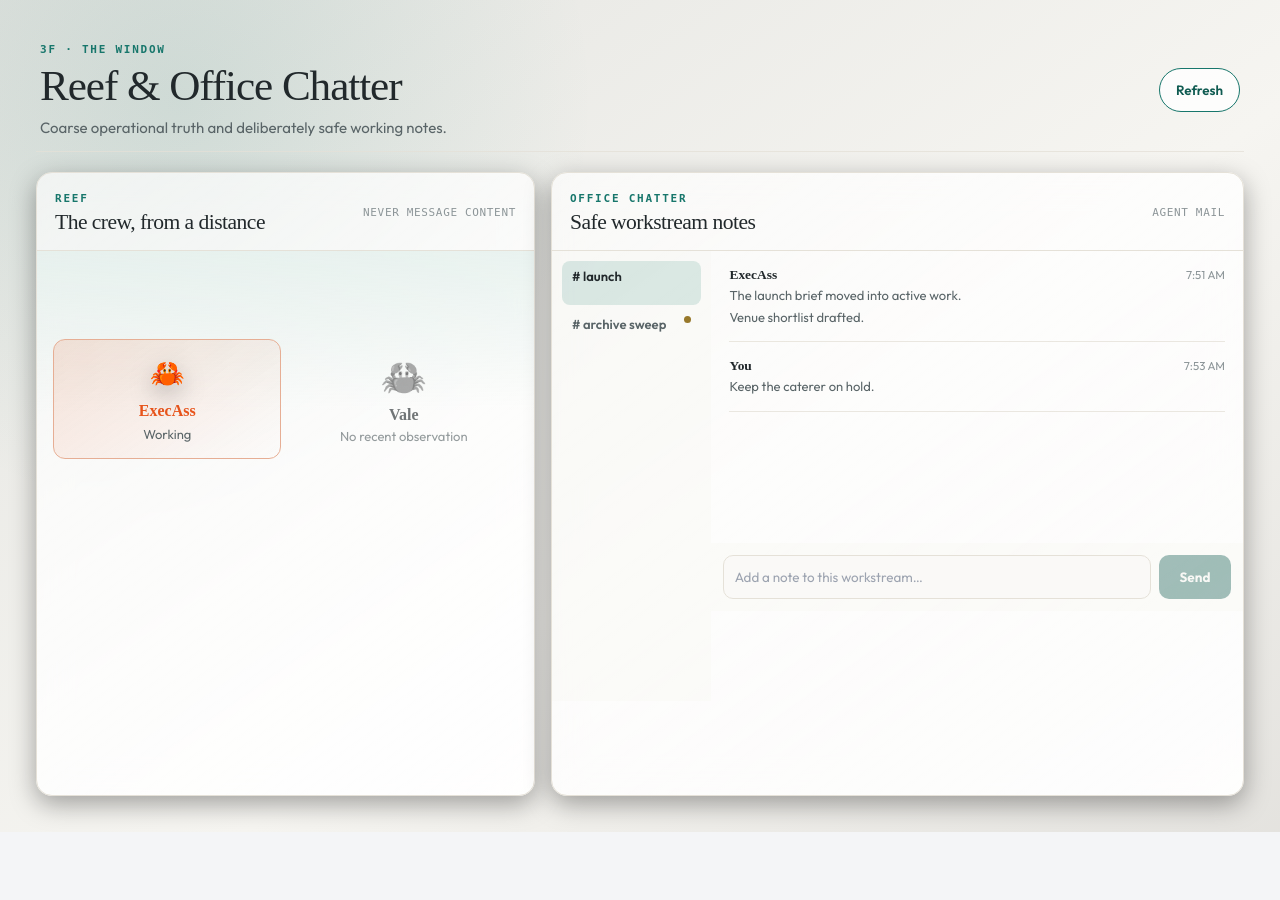
Reef report cards › closes the card on Escape and returns focus to the crab
The image size is (1280, 900).
Click the button "🦀 ExecAss Working": x=167, y=398 53,338 -> 282,458
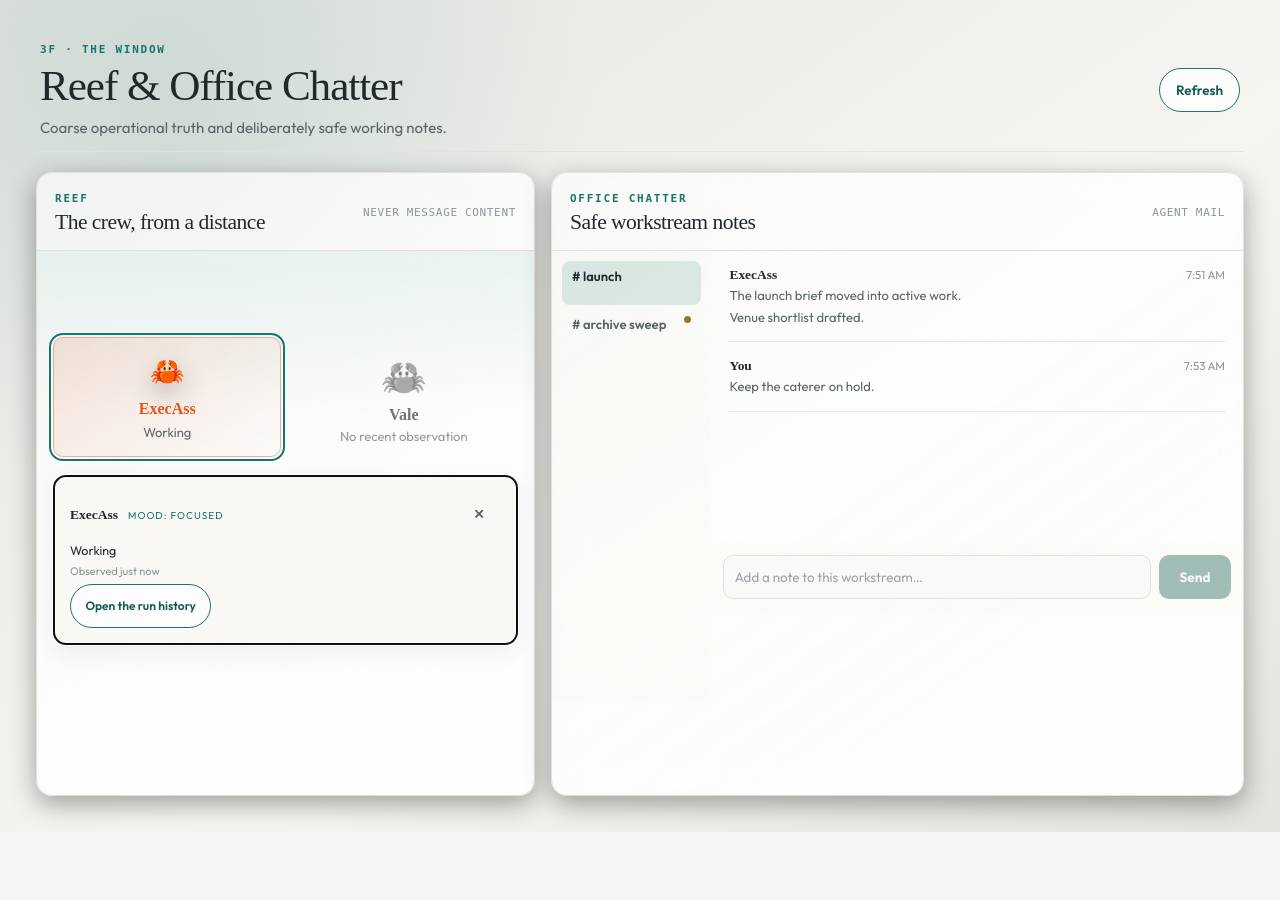
Press Escape in the element with test id "reef-report-card", box 53,474 -> 518,644
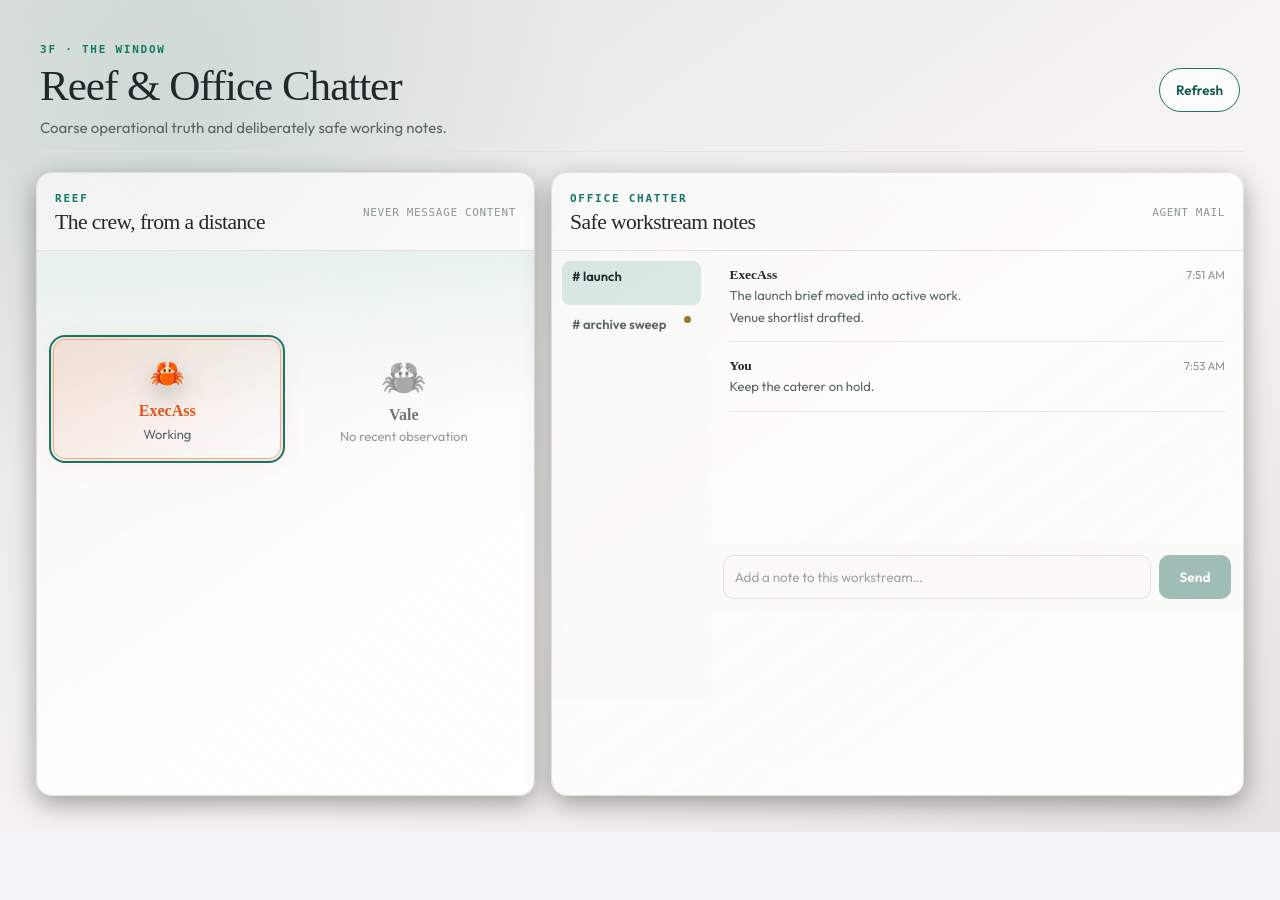
Check: the element with test id "reef-report-card" is gone
